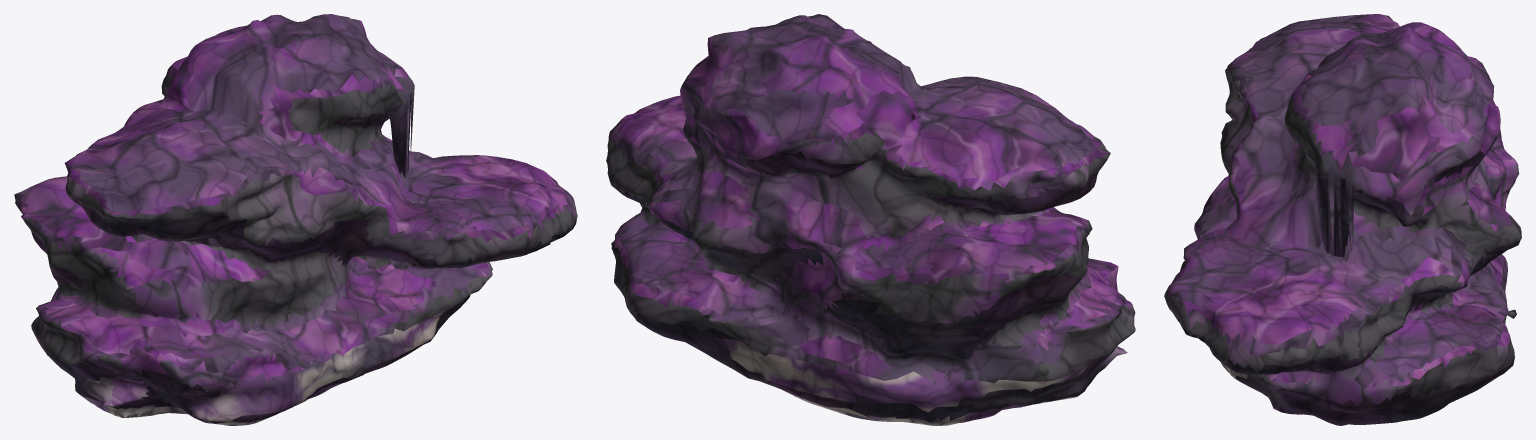
File: reef-nsa-bommie-mound.glb
3 renders of one model, left to right at view 1: azimuth 30°, elevation 25°; view 2: azimuth 150°, elevation 25°; view 3: azimuth 270°, elevation 25°, orthographic. The views are drawn at different scales.
Visible parts, largest first — view 1: Reef_NSA_Bommie_Mound; view 2: Reef_NSA_Bommie_Mound; view 3: Reef_NSA_Bommie_Mound.
Boxes of the visible parts, x1=… form: Reef_NSA_Bommie_Mound: x1=14, y1=14, x2=577, y2=425; Reef_NSA_Bommie_Mound: x1=606, y1=14, x2=1135, y2=425; Reef_NSA_Bommie_Mound: x1=1164, y1=14, x2=1521, y2=425.
Bounding box in the file's own units: 0.6291 × 0.3813 × 0.373.
1 material, 1 textured.
